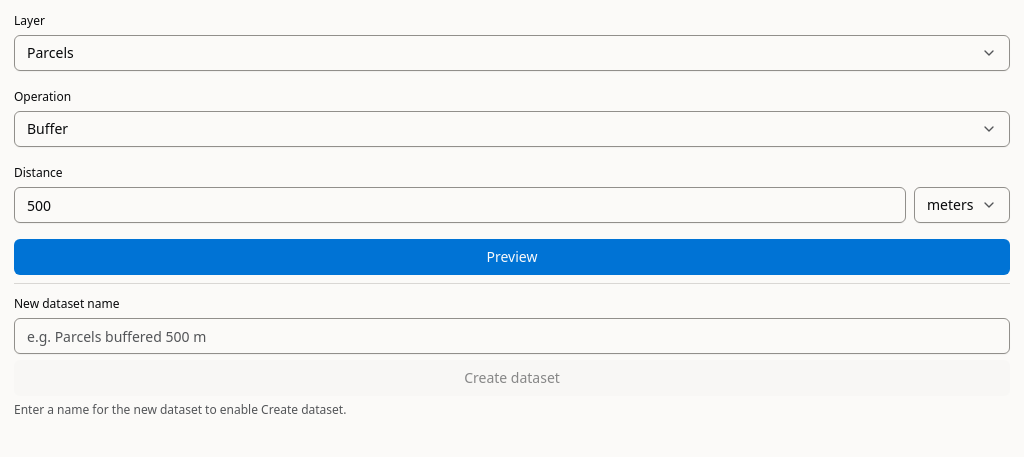
Test: AnalysisPanel — chat handoff prefill (#675) › state lifecycle (fix #757/#758/#760/#764) › resets the post-run state on an input change (#764)
Type "QA Lakes Buffer" into the field labelled "New dataset name" at (512, 336), box [14,318,1010,354]
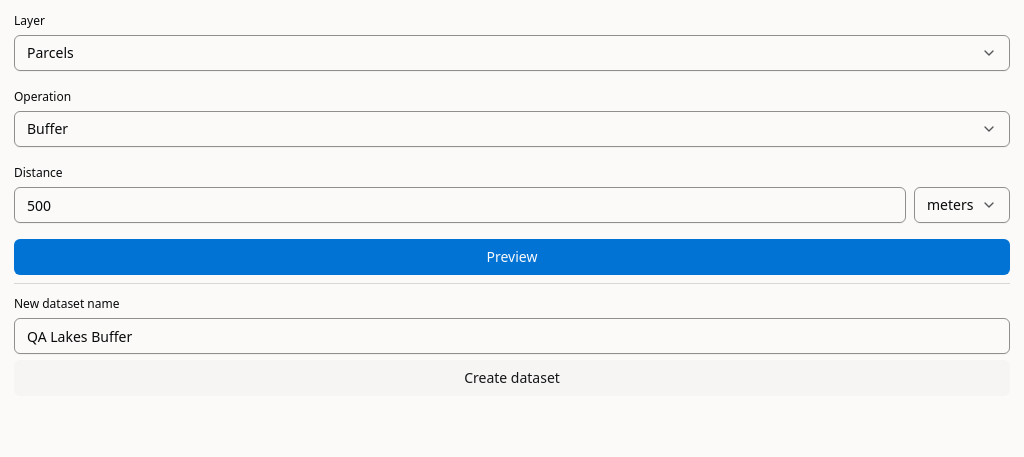
Click the button "Create dataset" at (512, 378), box [14,360,1010,396]
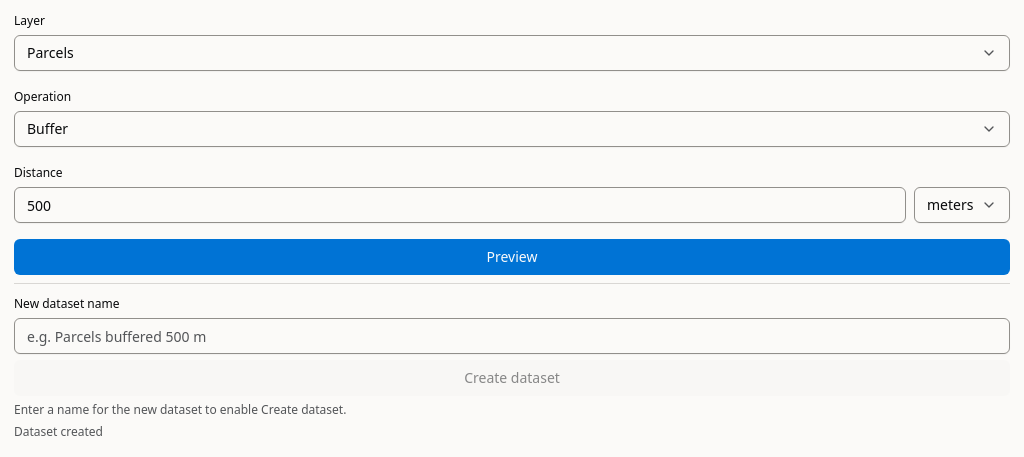
Check: the text "Dataset created" is shown, box [14,423,103,440]
Click the dropdown labelled "Buffer" at (48, 128), box [14,111,1010,147]
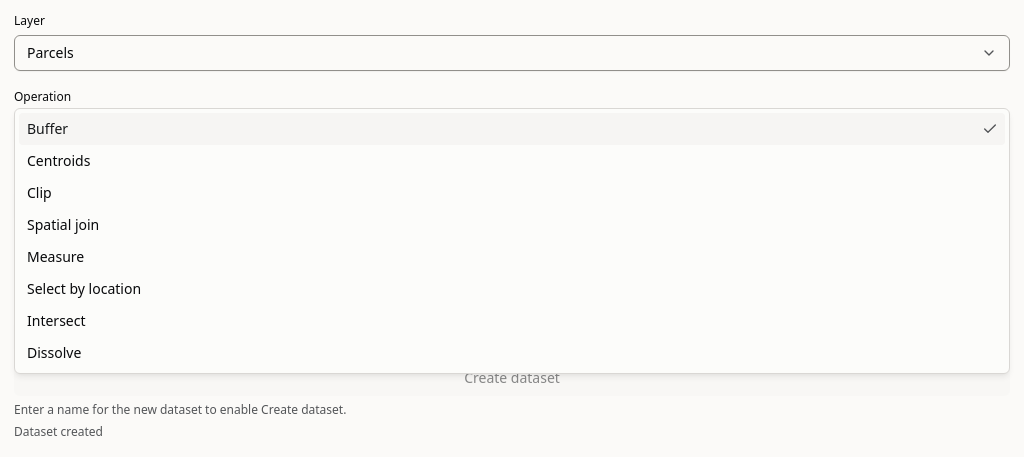
Click the option "Centroids" at (59, 160), box [27,151,90,170]
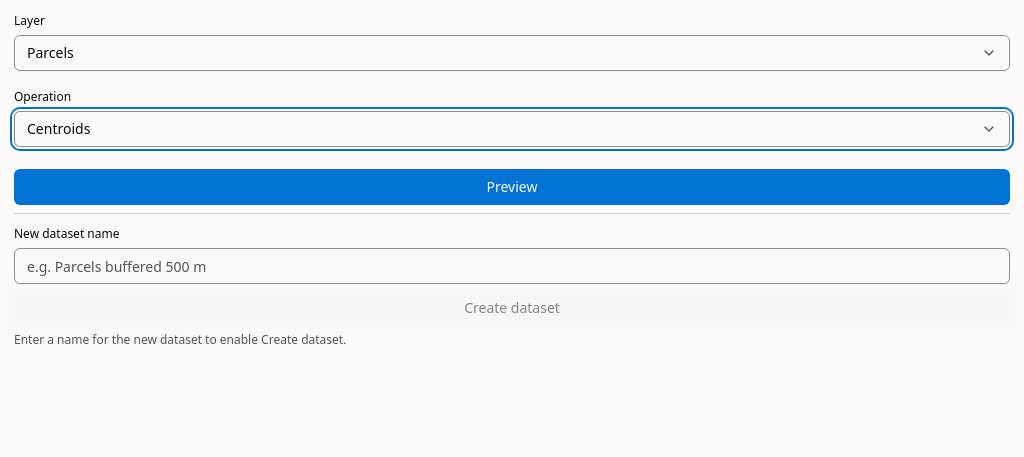
Check: the field labelled "New dataset name" is empty, box [14,248,1010,284]
Check: the text "Dataset created" is gone
